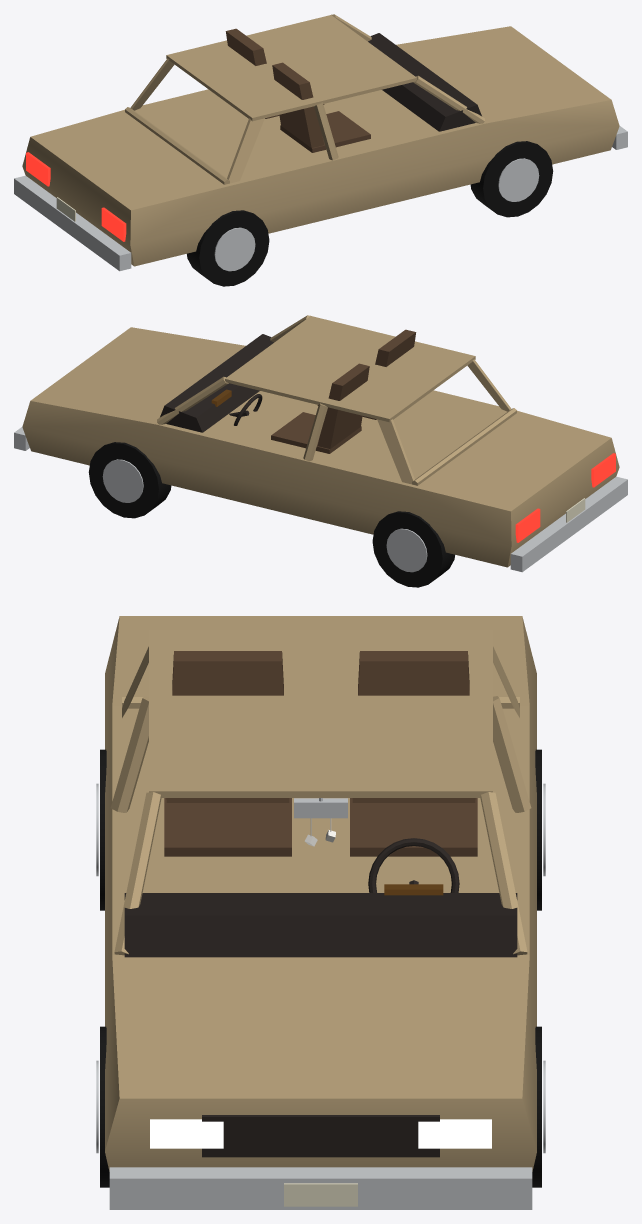
The model's file is SM_80s_Car_Player.glb.
3 views of the same model, one above another, from view 1: azimuth 30°, elevation 25°; view 2: azimuth 150°, elevation 25°; view 3: azimuth 270°, elevation 25° (orthographic). The views are drawn at different scales.
Visible parts, largest first — view 1: SM_80s_Car_Player; view 2: SM_80s_Car_Player; view 3: SM_80s_Car_Player.
Boxes of the visible parts, x1=… form: SM_80s_Car_Player: x1=14, y1=14, x2=627, y2=286; SM_80s_Car_Player: x1=14, y1=315, x2=627, y2=587; SM_80s_Car_Player: x1=96, y1=616, x2=545, y2=1209.
Bounding box in the file's own units: 4.8 × 1.5 × 1.83.
